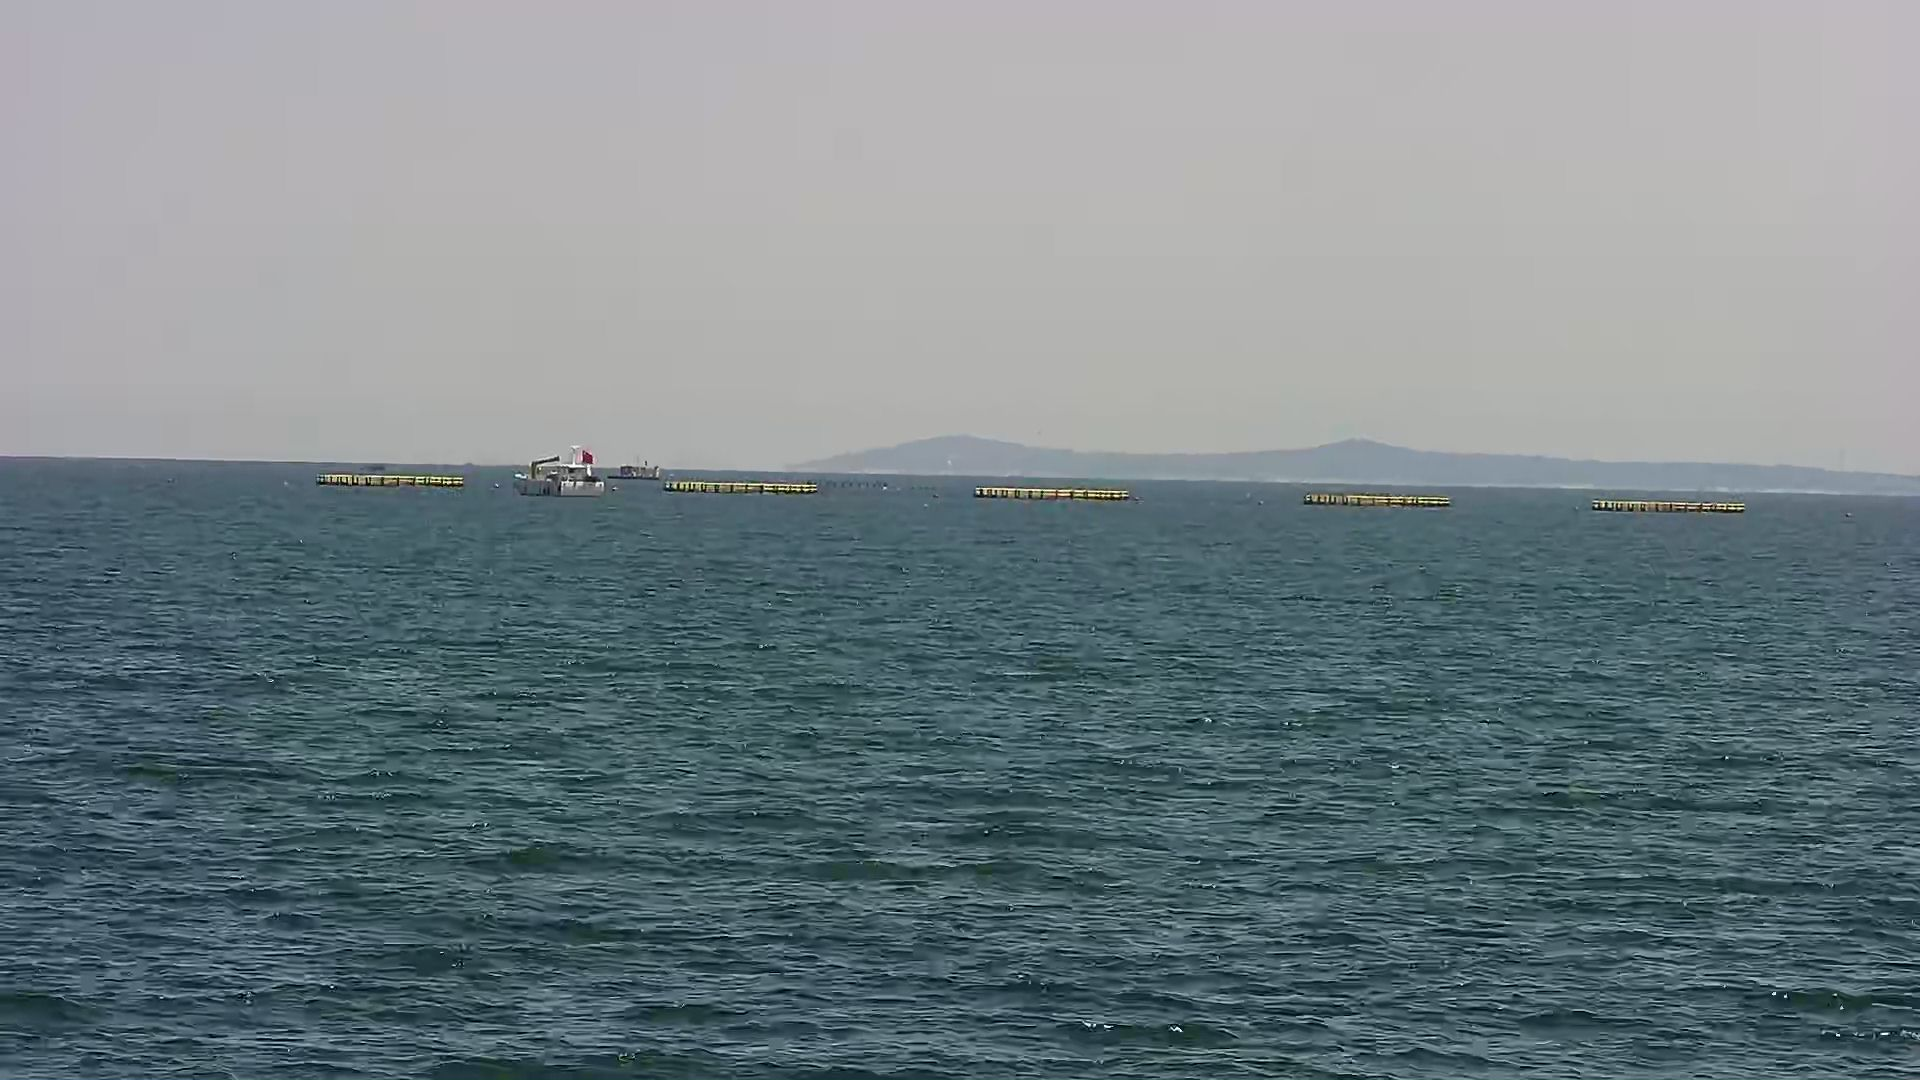boat: (506, 440, 616, 501)
platform: (973, 475, 1139, 509), (1589, 488, 1758, 521), (1294, 485, 1470, 516), (314, 460, 473, 491), (667, 473, 824, 498), (804, 462, 909, 498), (607, 455, 671, 488)
